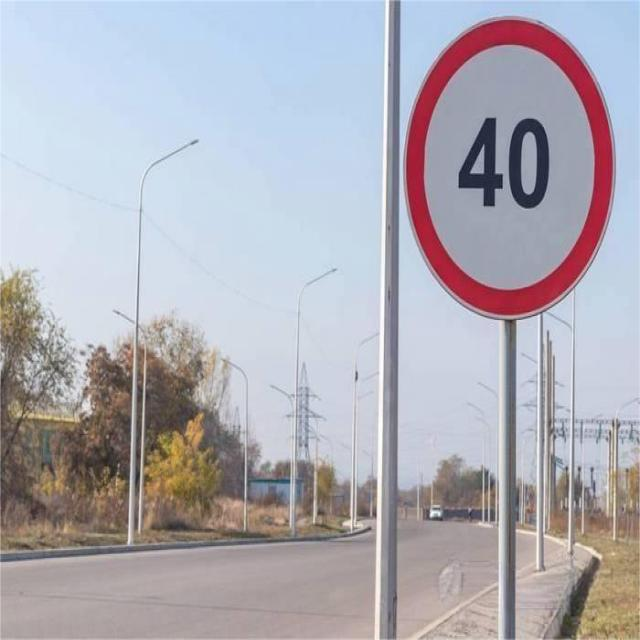speed limit 40: (400, 13, 616, 318)
